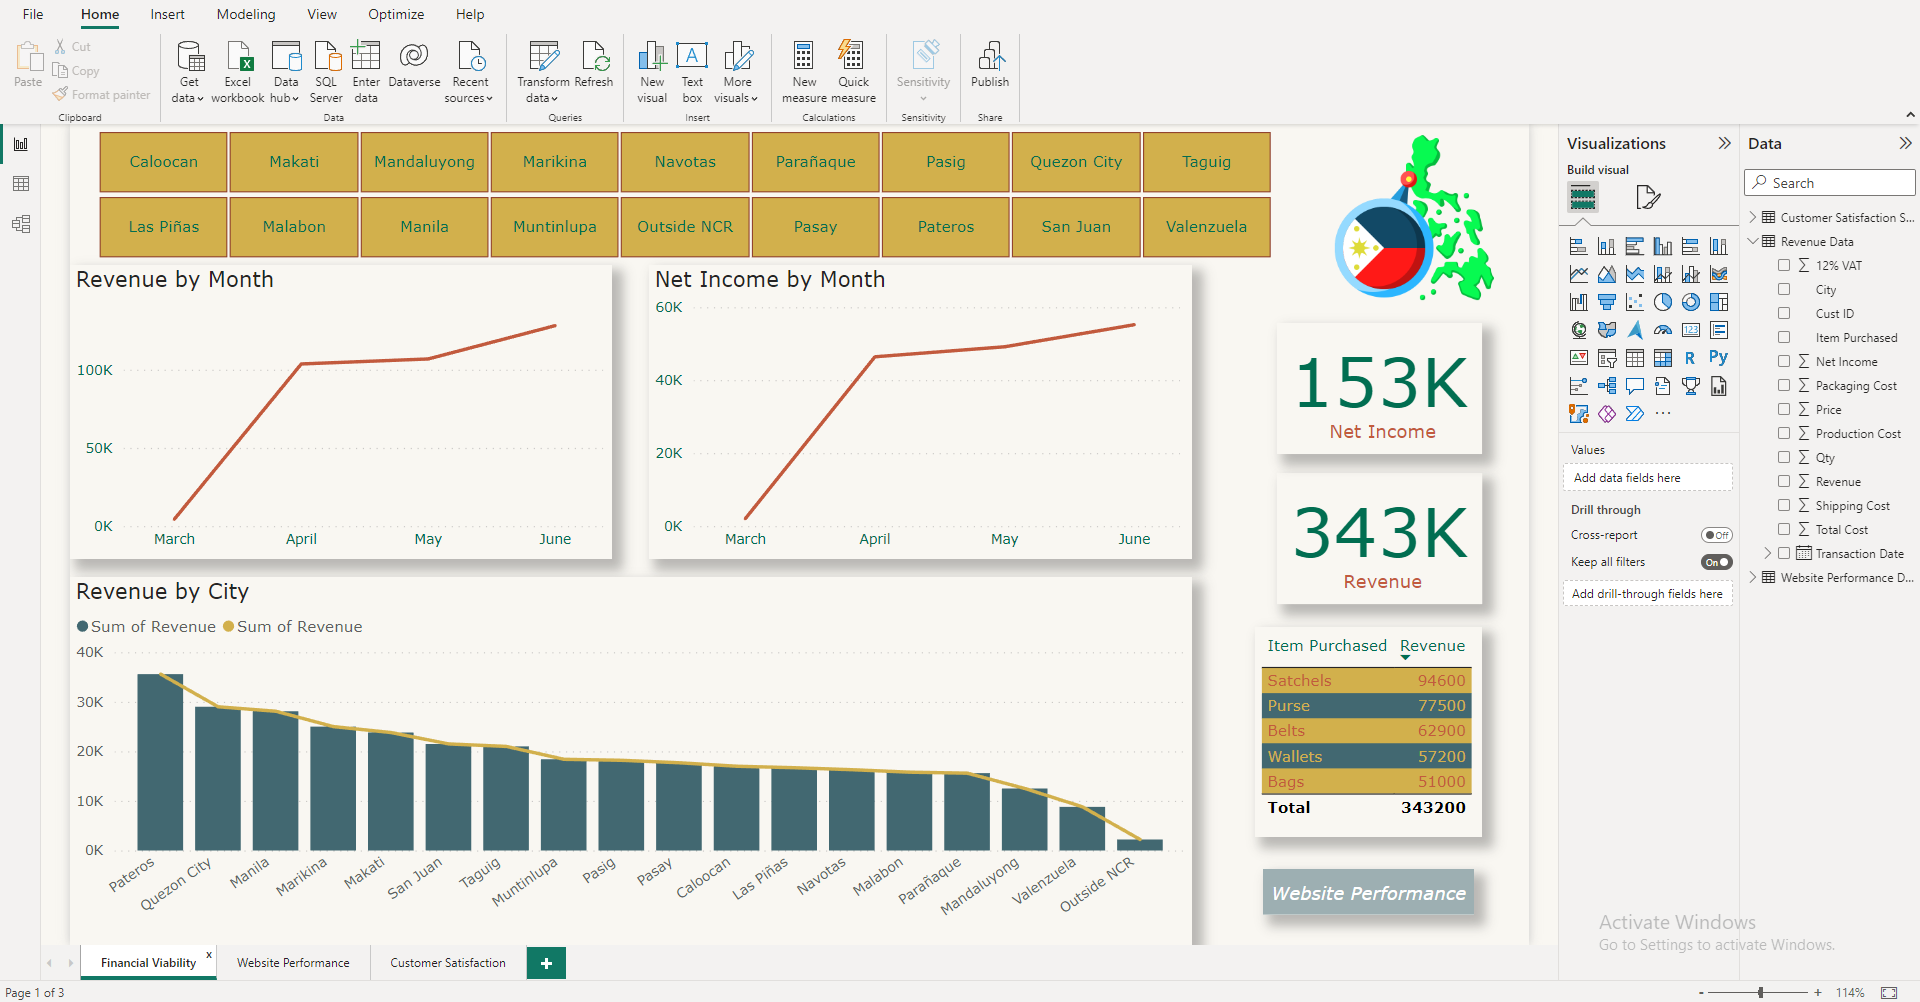

Layout of this report page (visuals, bound fields, positions):
{"tool":"powerbi","page":{"name":"Financial Viability","canvas":[1280,720],"ordinal":0},"visuals":[{"type":"card","fields":{"Values":["Sum(Revenue Data.Revenue)"]},"box":[1058.5,306.1,179.8,114.9],"z":0},{"type":"card","fields":{"Values":["Sum(Revenue Data.Net Income)"]},"box":[1058.5,174.5,179.8,114.9],"z":1000},{"type":"slicer","fields":{"Values":["Revenue Data.City"]},"box":[0,0,1076.9,123.7],"z":2000},{"type":"image","box":[1077.3,0,202.7,163.6],"z":3000},{"type":"lineChart","title":"Revenue by Month","fields":{"Y":["Sum(Revenue Data.Revenue)"],"Category":["Revenue Data.Transaction Date.Variation.Date Hierarchy.Month"]},"box":[0,123.7,475.3,257.8],"z":4000},{"type":"lineChart","title":"Net Income by Month","fields":{"Y":["Sum(Revenue Data.Net Income)"],"Category":["Revenue Data.Transaction Date.Variation.Date Hierarchy.Month"]},"box":[507.8,123.7,476.2,257.8],"z":5000},{"type":"tableEx","fields":{"Values":["Revenue Data.Item Purchased","Sum(Revenue Data.Revenue)"]},"box":[1039.1,440.9,199.1,183.6],"z":6000},{"type":"lineClusteredColumnComboChart","title":" Revenue by City","fields":{"Category":["Revenue Data.City"],"Y":["Sum(Revenue Data.Revenue)"],"Y2":["Sum(Revenue Data.Revenue)"]},"box":[0,397.3,984,322.7],"z":7000},{"type":"actionButton","box":[1046.4,653.6,185.5,40],"z":8000}]}

Visuals, with their boxes on the page's 1280x720 design canvas (x1, y1, x2, y2). These are canvas units, not pixel positions in the 1920x1002 screenshot, which may show the page scaled, cropped or inside an application window:
card - Sum(Revenue Data.Revenue): pyautogui.locateOnScreen(1058, 306, 1238, 421)
card - Sum(Revenue Data.Net Income): pyautogui.locateOnScreen(1058, 174, 1238, 289)
slicer - Revenue Data.City: pyautogui.locateOnScreen(0, 0, 1077, 124)
image: pyautogui.locateOnScreen(1077, 0, 1280, 164)
"Revenue by Month" lineChart: pyautogui.locateOnScreen(0, 124, 475, 382)
"Net Income by Month" lineChart: pyautogui.locateOnScreen(508, 124, 984, 382)
tableEx - Revenue Data.Item Purchased x Sum(Revenue Data.Revenue): pyautogui.locateOnScreen(1039, 441, 1238, 624)
" Revenue by City" lineClusteredColumnComboChart: pyautogui.locateOnScreen(0, 397, 984, 720)
actionButton: pyautogui.locateOnScreen(1046, 654, 1232, 694)
